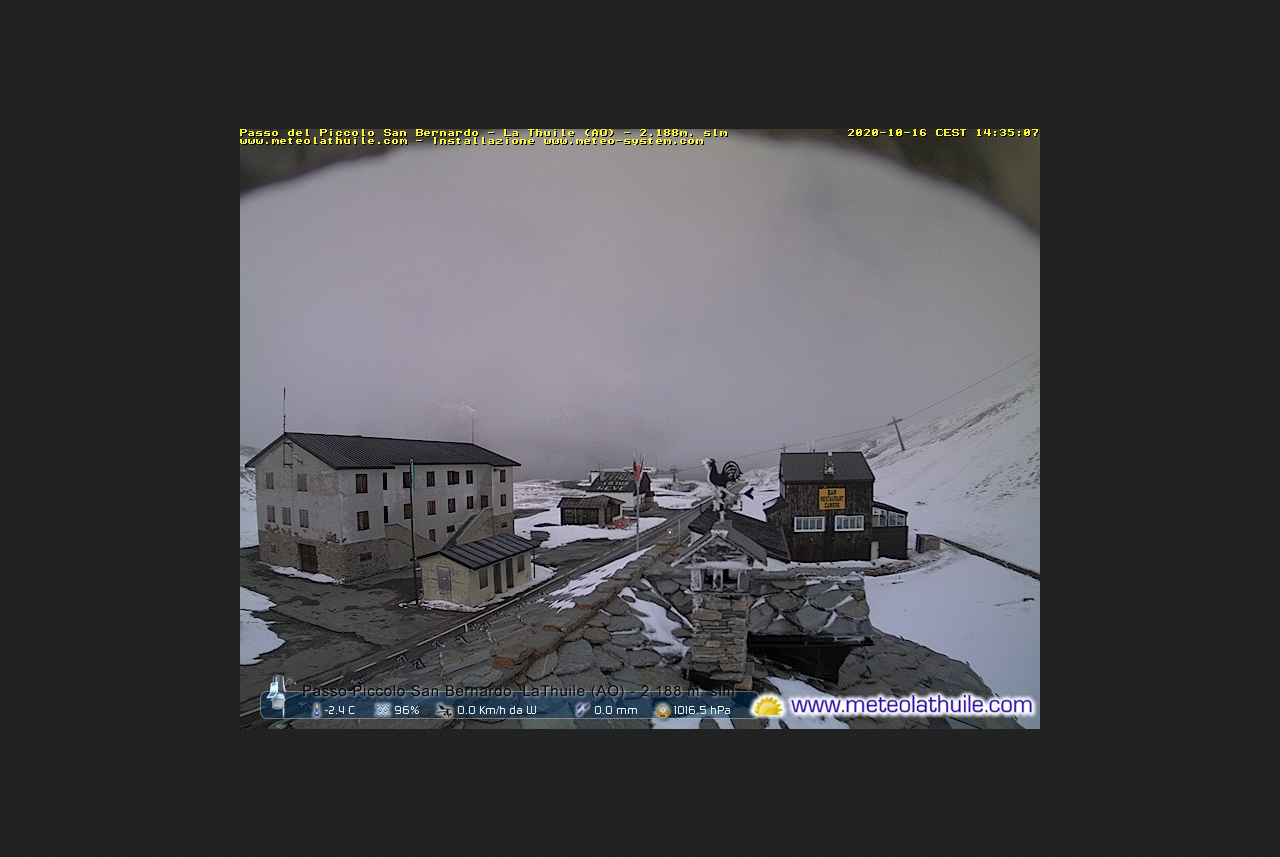no: (630, 459, 643, 486), (405, 461, 415, 495)
